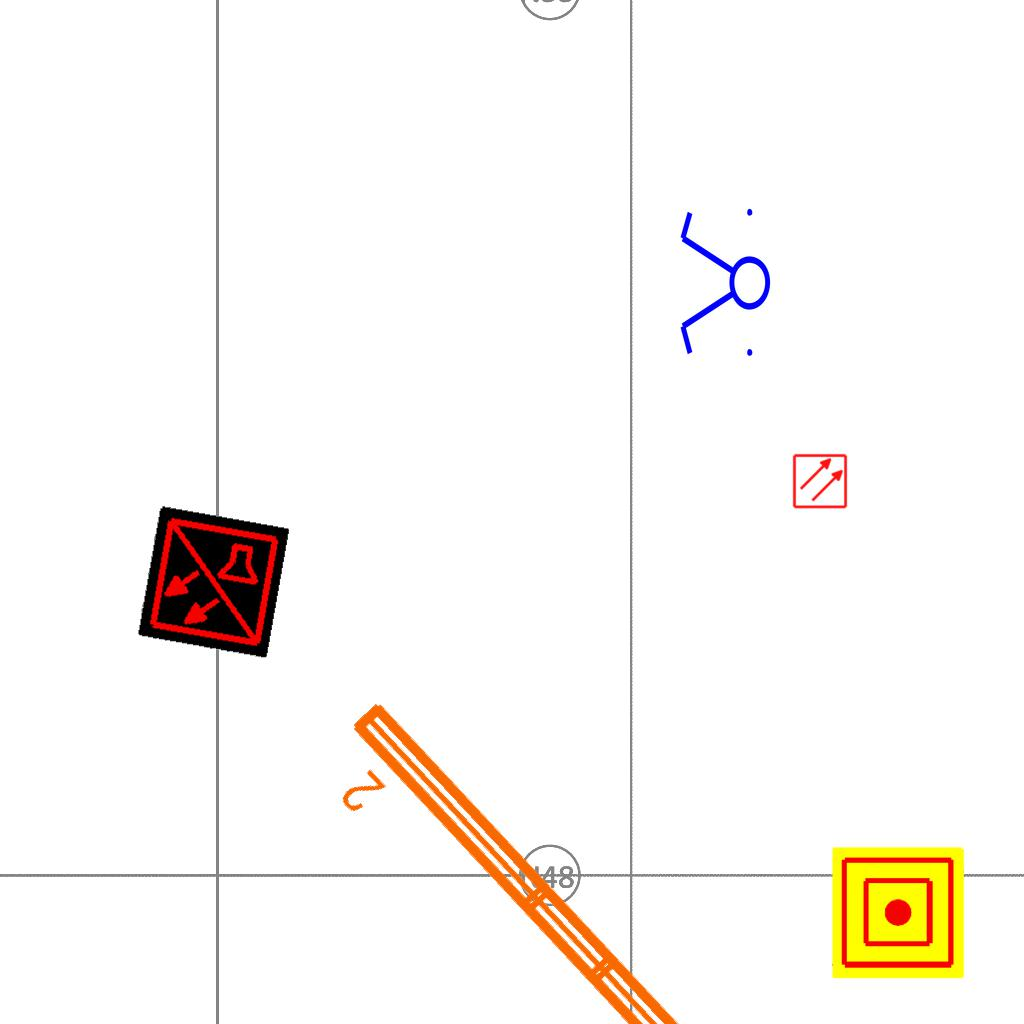Ambulanz_Pendelleuchte_LED: (299, 686, 909, 1024)
NAM-Nichtautomatischer_Melder: (832, 847, 964, 979)
OKW_Multisensormelder_(Kombination_optischer_Rauch-Kahlenmonoxid_Waerme-Melder): (136, 505, 290, 659)
RMO_Rauchmelder_optischer: (792, 453, 848, 509)
Serienschalter: (676, 200, 772, 368)
